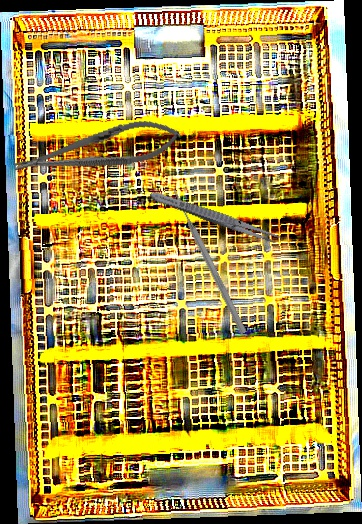Dressing Forceps: (148, 188, 284, 247)
Needle Holder: (10, 112, 184, 187)
Pusher: (169, 186, 249, 336)
